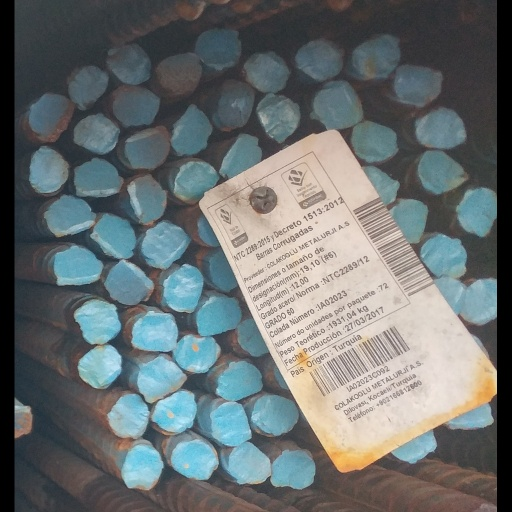dipstick: (312, 83, 362, 129), (143, 222, 189, 266), (415, 109, 465, 149), (352, 35, 398, 78), (418, 151, 465, 193), (457, 188, 497, 237), (139, 358, 185, 400), (295, 38, 341, 80), (170, 107, 210, 154), (106, 262, 150, 304), (151, 391, 195, 433), (422, 235, 466, 277), (30, 95, 70, 141), (259, 93, 299, 139), (395, 65, 441, 105), (350, 121, 396, 161), (252, 395, 299, 434), (127, 127, 170, 169), (79, 344, 121, 387), (211, 401, 252, 445), (220, 136, 261, 180), (216, 363, 262, 402), (77, 301, 120, 342), (227, 443, 270, 484), (174, 163, 218, 203), (47, 197, 93, 235), (158, 53, 200, 94), (113, 86, 157, 125), (95, 215, 134, 259), (74, 160, 121, 196), (54, 247, 101, 283), (133, 312, 176, 351), (106, 45, 150, 83), (122, 445, 160, 489), (73, 115, 118, 152), (30, 147, 67, 192), (217, 80, 253, 126), (173, 440, 215, 479), (197, 30, 241, 67), (165, 268, 202, 312), (196, 299, 240, 336), (270, 451, 314, 488), (130, 176, 165, 222), (463, 276, 497, 323), (175, 336, 219, 371), (247, 53, 287, 91), (111, 395, 147, 437), (71, 66, 106, 109), (391, 201, 425, 243), (390, 430, 435, 461), (361, 167, 397, 204), (433, 278, 463, 318), (443, 404, 491, 428), (209, 253, 237, 290), (238, 320, 266, 356), (15, 407, 33, 439)
